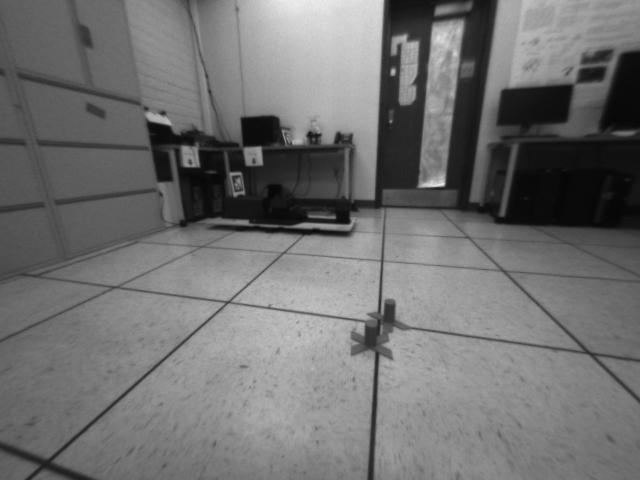X: (349, 320, 394, 362), (366, 298, 412, 336)
